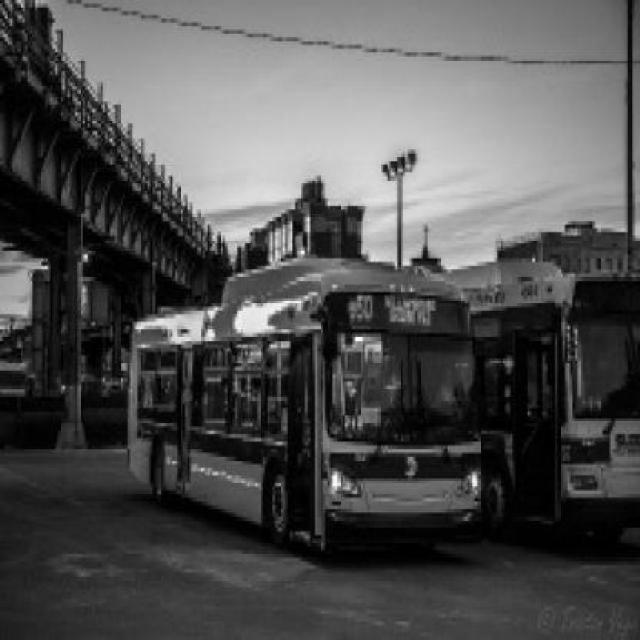Bus: (128, 257, 484, 556), (433, 261, 640, 536)
